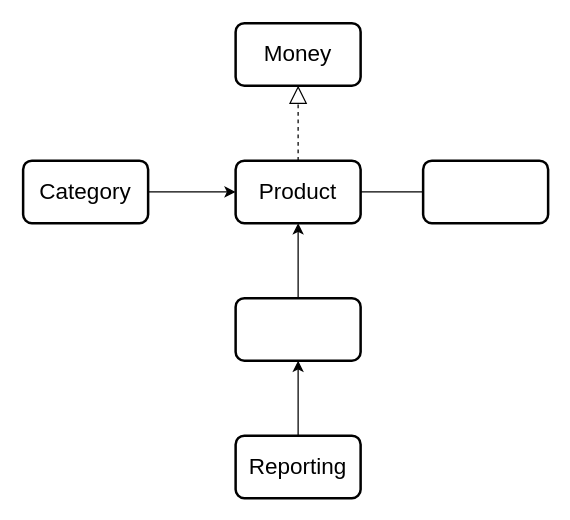
This 570x520 diagram has some shape labels left out. The centre of each missing label's shape, as x and y in pixels:
"Discount" belongs at (485,191).
"Warehouse" belongs at (297,328).
